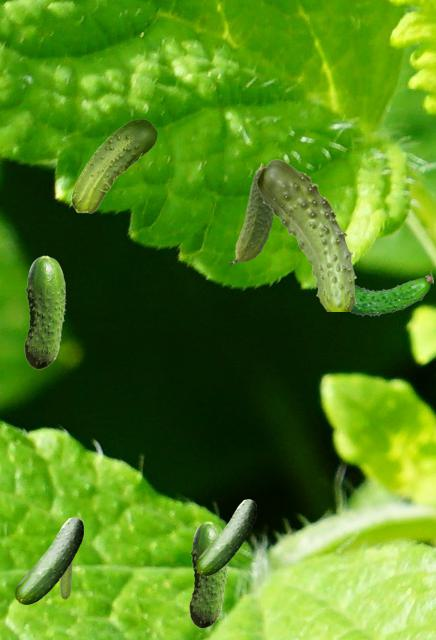cucumber: (256, 159, 356, 310), (71, 119, 156, 212), (15, 517, 82, 603), (24, 255, 65, 368), (229, 163, 274, 263), (196, 499, 255, 574), (189, 521, 227, 627), (348, 270, 432, 315), (60, 562, 72, 598)
